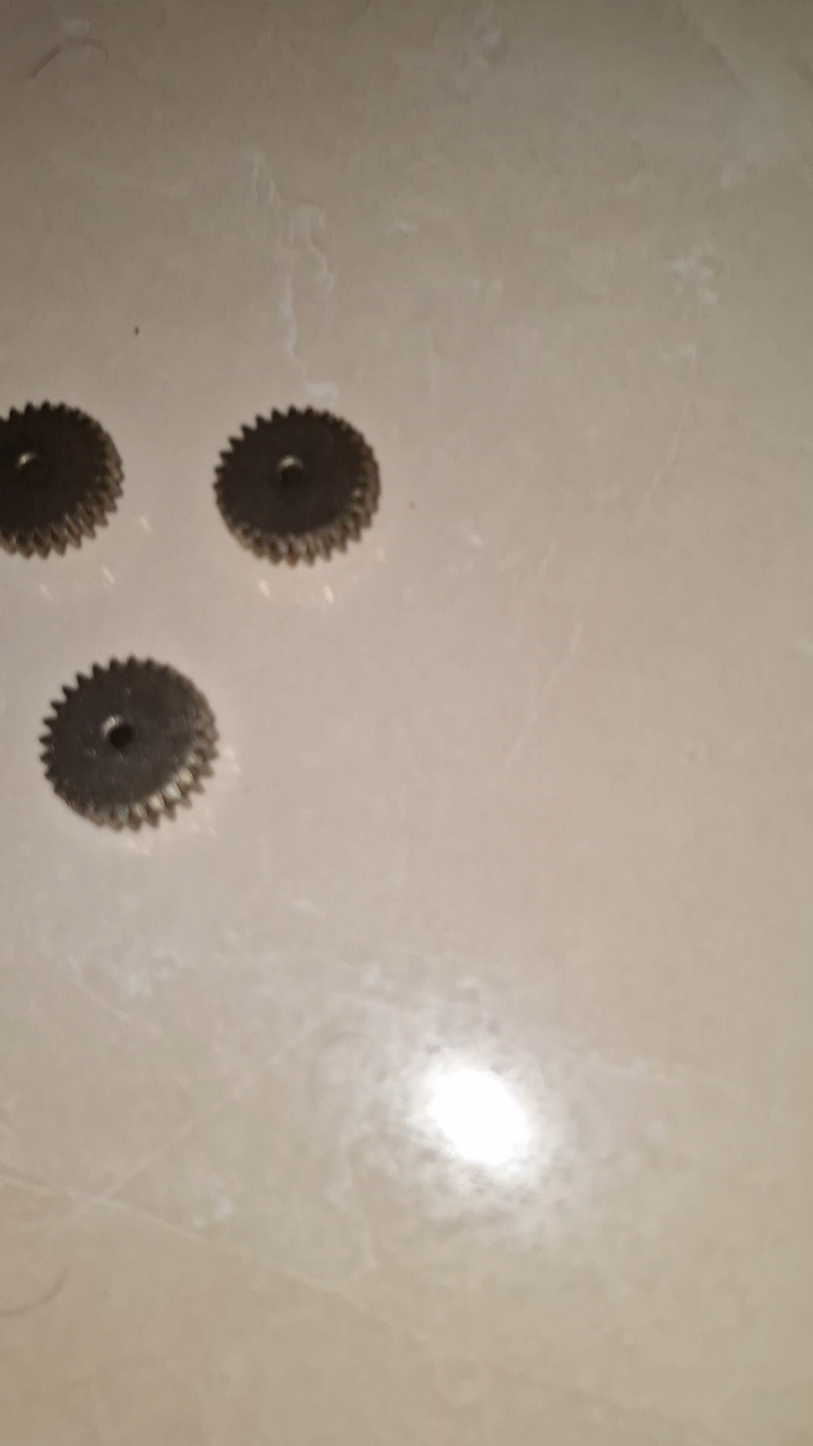spur gear: (40, 658, 216, 828), (215, 409, 380, 563), (0, 403, 122, 557)
